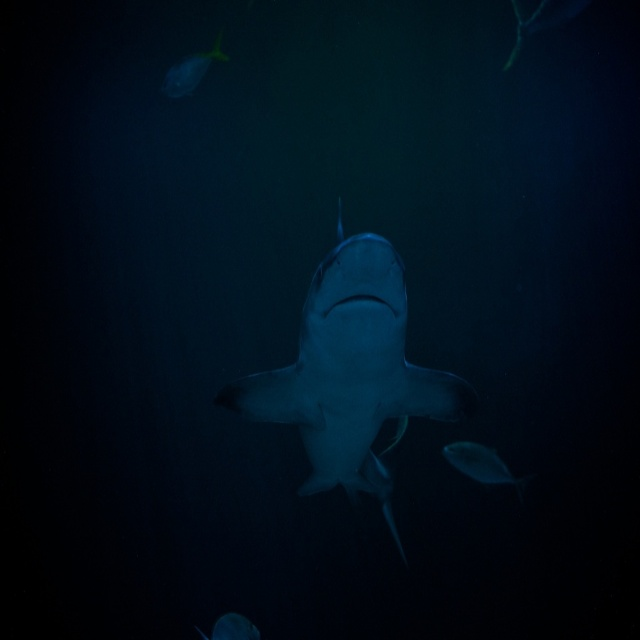Shark: (222, 195, 470, 498)
